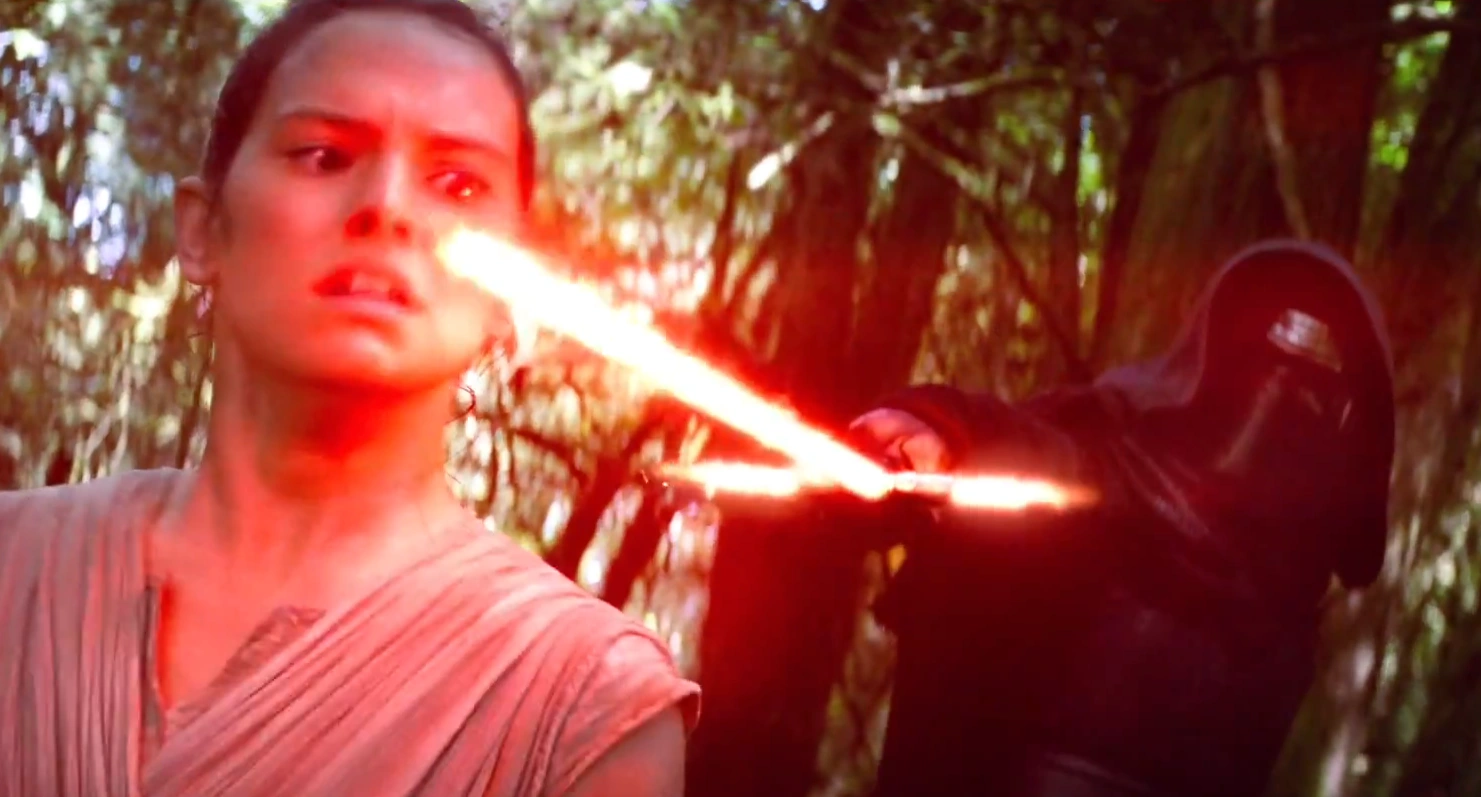cats: (425, 221, 1108, 513)
